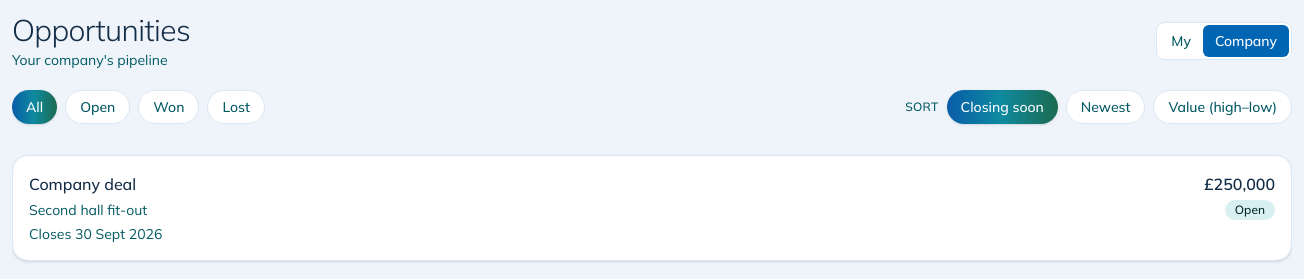
Test: OpportunitiesPage › switches to the My tier and refetches from the me scope
Check: the text "Company deal" is shown, box [29,174,136,194]
What coordinates should you click on to do the following:
click the tab "My"
I would click on:
 (1181, 41)
Its box is [1159,25,1203,57].
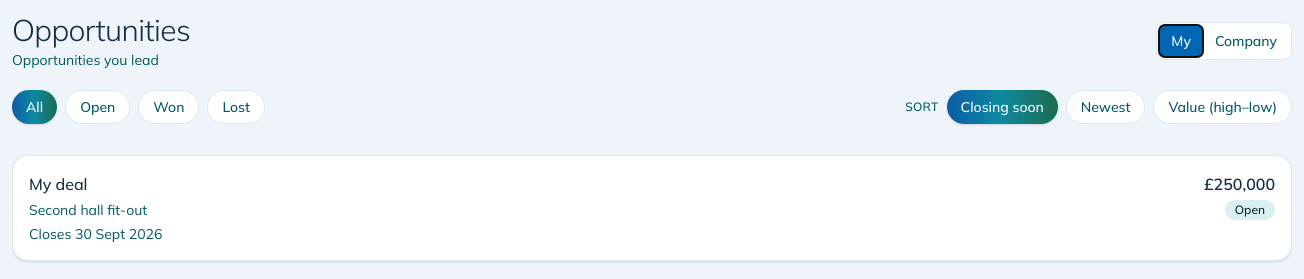
Check: the text "My deal" is shown, box [29,174,88,194]
Check: the text "Opportunities you lead" is shown, box [12,51,159,69]
